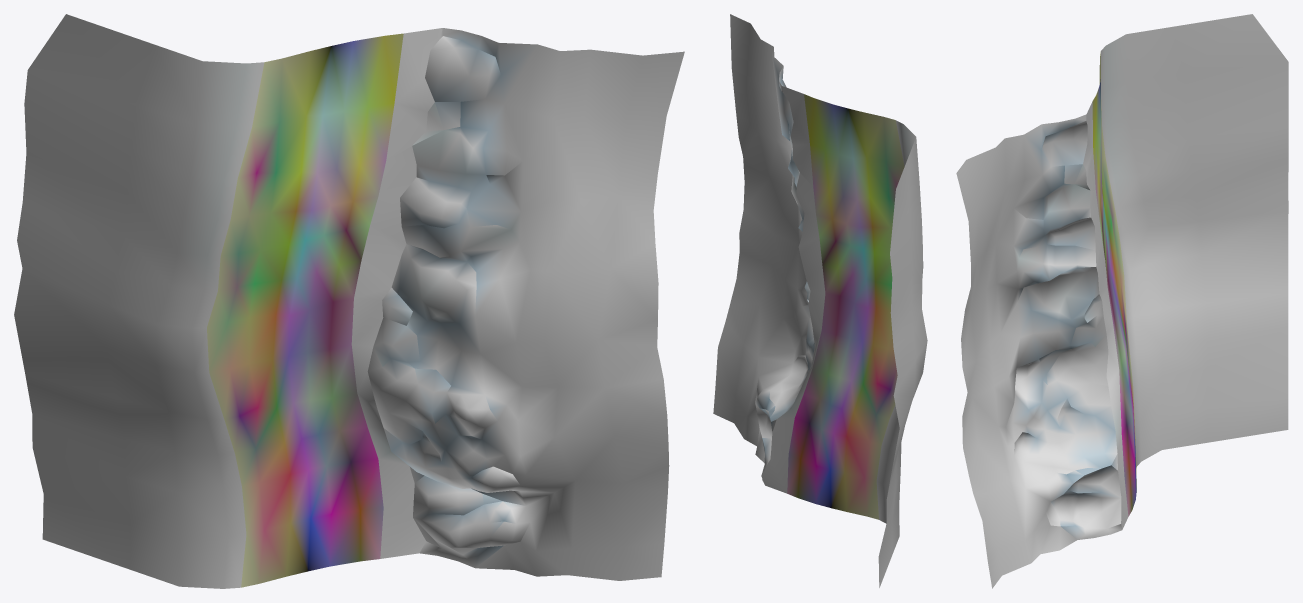
File: Snow_RampStraightC_lod1.glb
3 views of the same model, side by side, from view 1: azimuth 30°, elevation 25°; view 2: azimuth 150°, elevation 25°; view 3: azimuth 270°, elevation 25° (orthographic). The views are drawn at different scales.
Parts seen in each view (by area): view 1: MeshNode_1, MeshNode_0; view 2: MeshNode_1, MeshNode_0; view 3: MeshNode_1, MeshNode_0.
Part boxes in pixels (<box>): MeshNode_1: <box>14,14,684,588</box>; MeshNode_0: <box>207,33,403,587</box>; MeshNode_1: <box>713,14,927,587</box>; MeshNode_0: <box>787,94,904,519</box>; MeshNode_1: <box>956,14,1288,588</box>; MeshNode_0: <box>1092,51,1136,516</box>.
Size of the model in its own units: 112 by 128 by 92.68.
